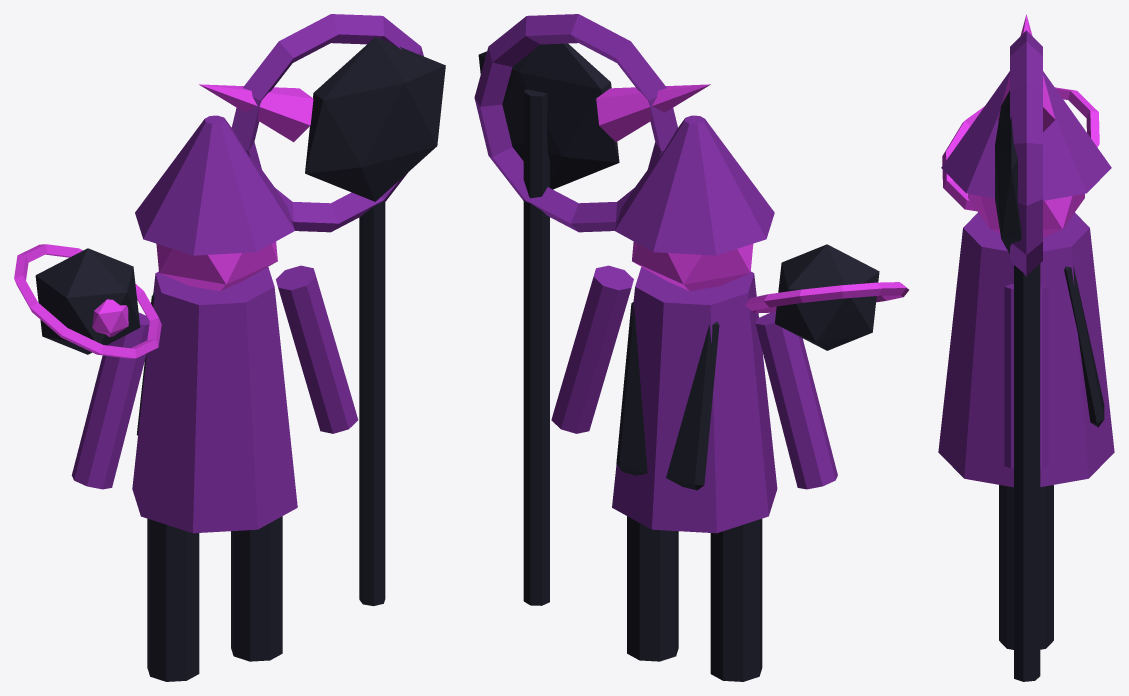
File: hero_void_reaper.glb
3 views of the same model, side by side, from view 1: azimuth 30°, elevation 25°; view 2: azimuth 150°, elevation 25°; view 3: azimuth 270°, elevation 25° (orthographic). The views are drawn at different scales.
Parts seen in each view (by area): view 1: hero_void_reaper; view 2: hero_void_reaper; view 3: hero_void_reaper.
Boxes of the visible parts, x1,y1,x2,y2 form: hero_void_reaper: (14,14,445,681); hero_void_reaper: (474,14,908,681); hero_void_reaper: (938,14,1114,681).
Size of the model in its own units: 1.82 by 2.55 by 0.64.
